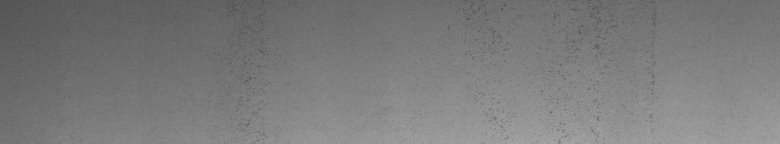ib: (465, 4, 656, 128)
